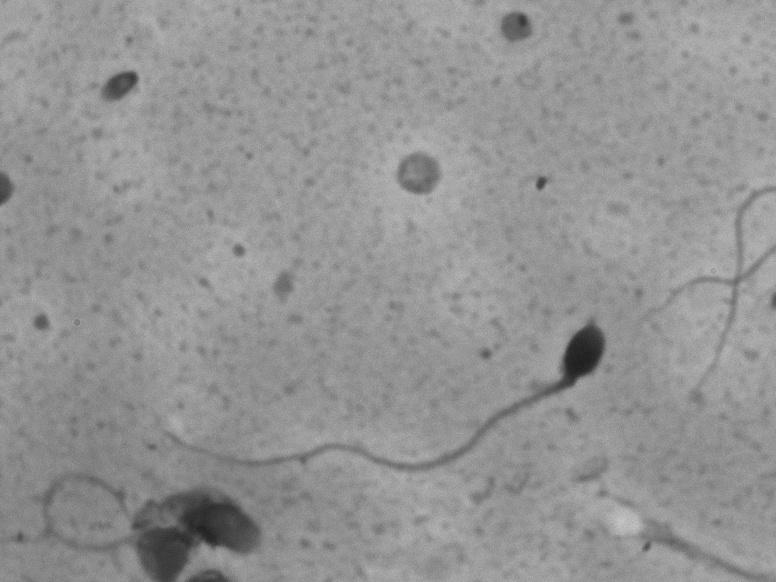Normal: (143, 290, 612, 489)
